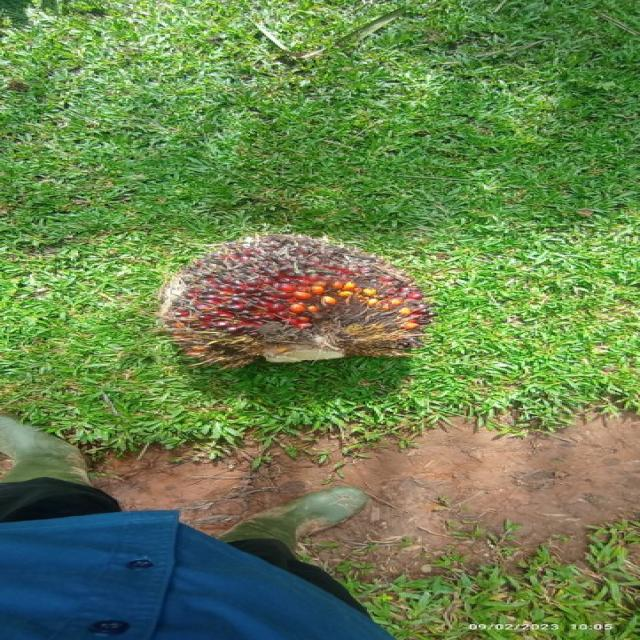fraksi 3: (135, 213, 442, 382)
